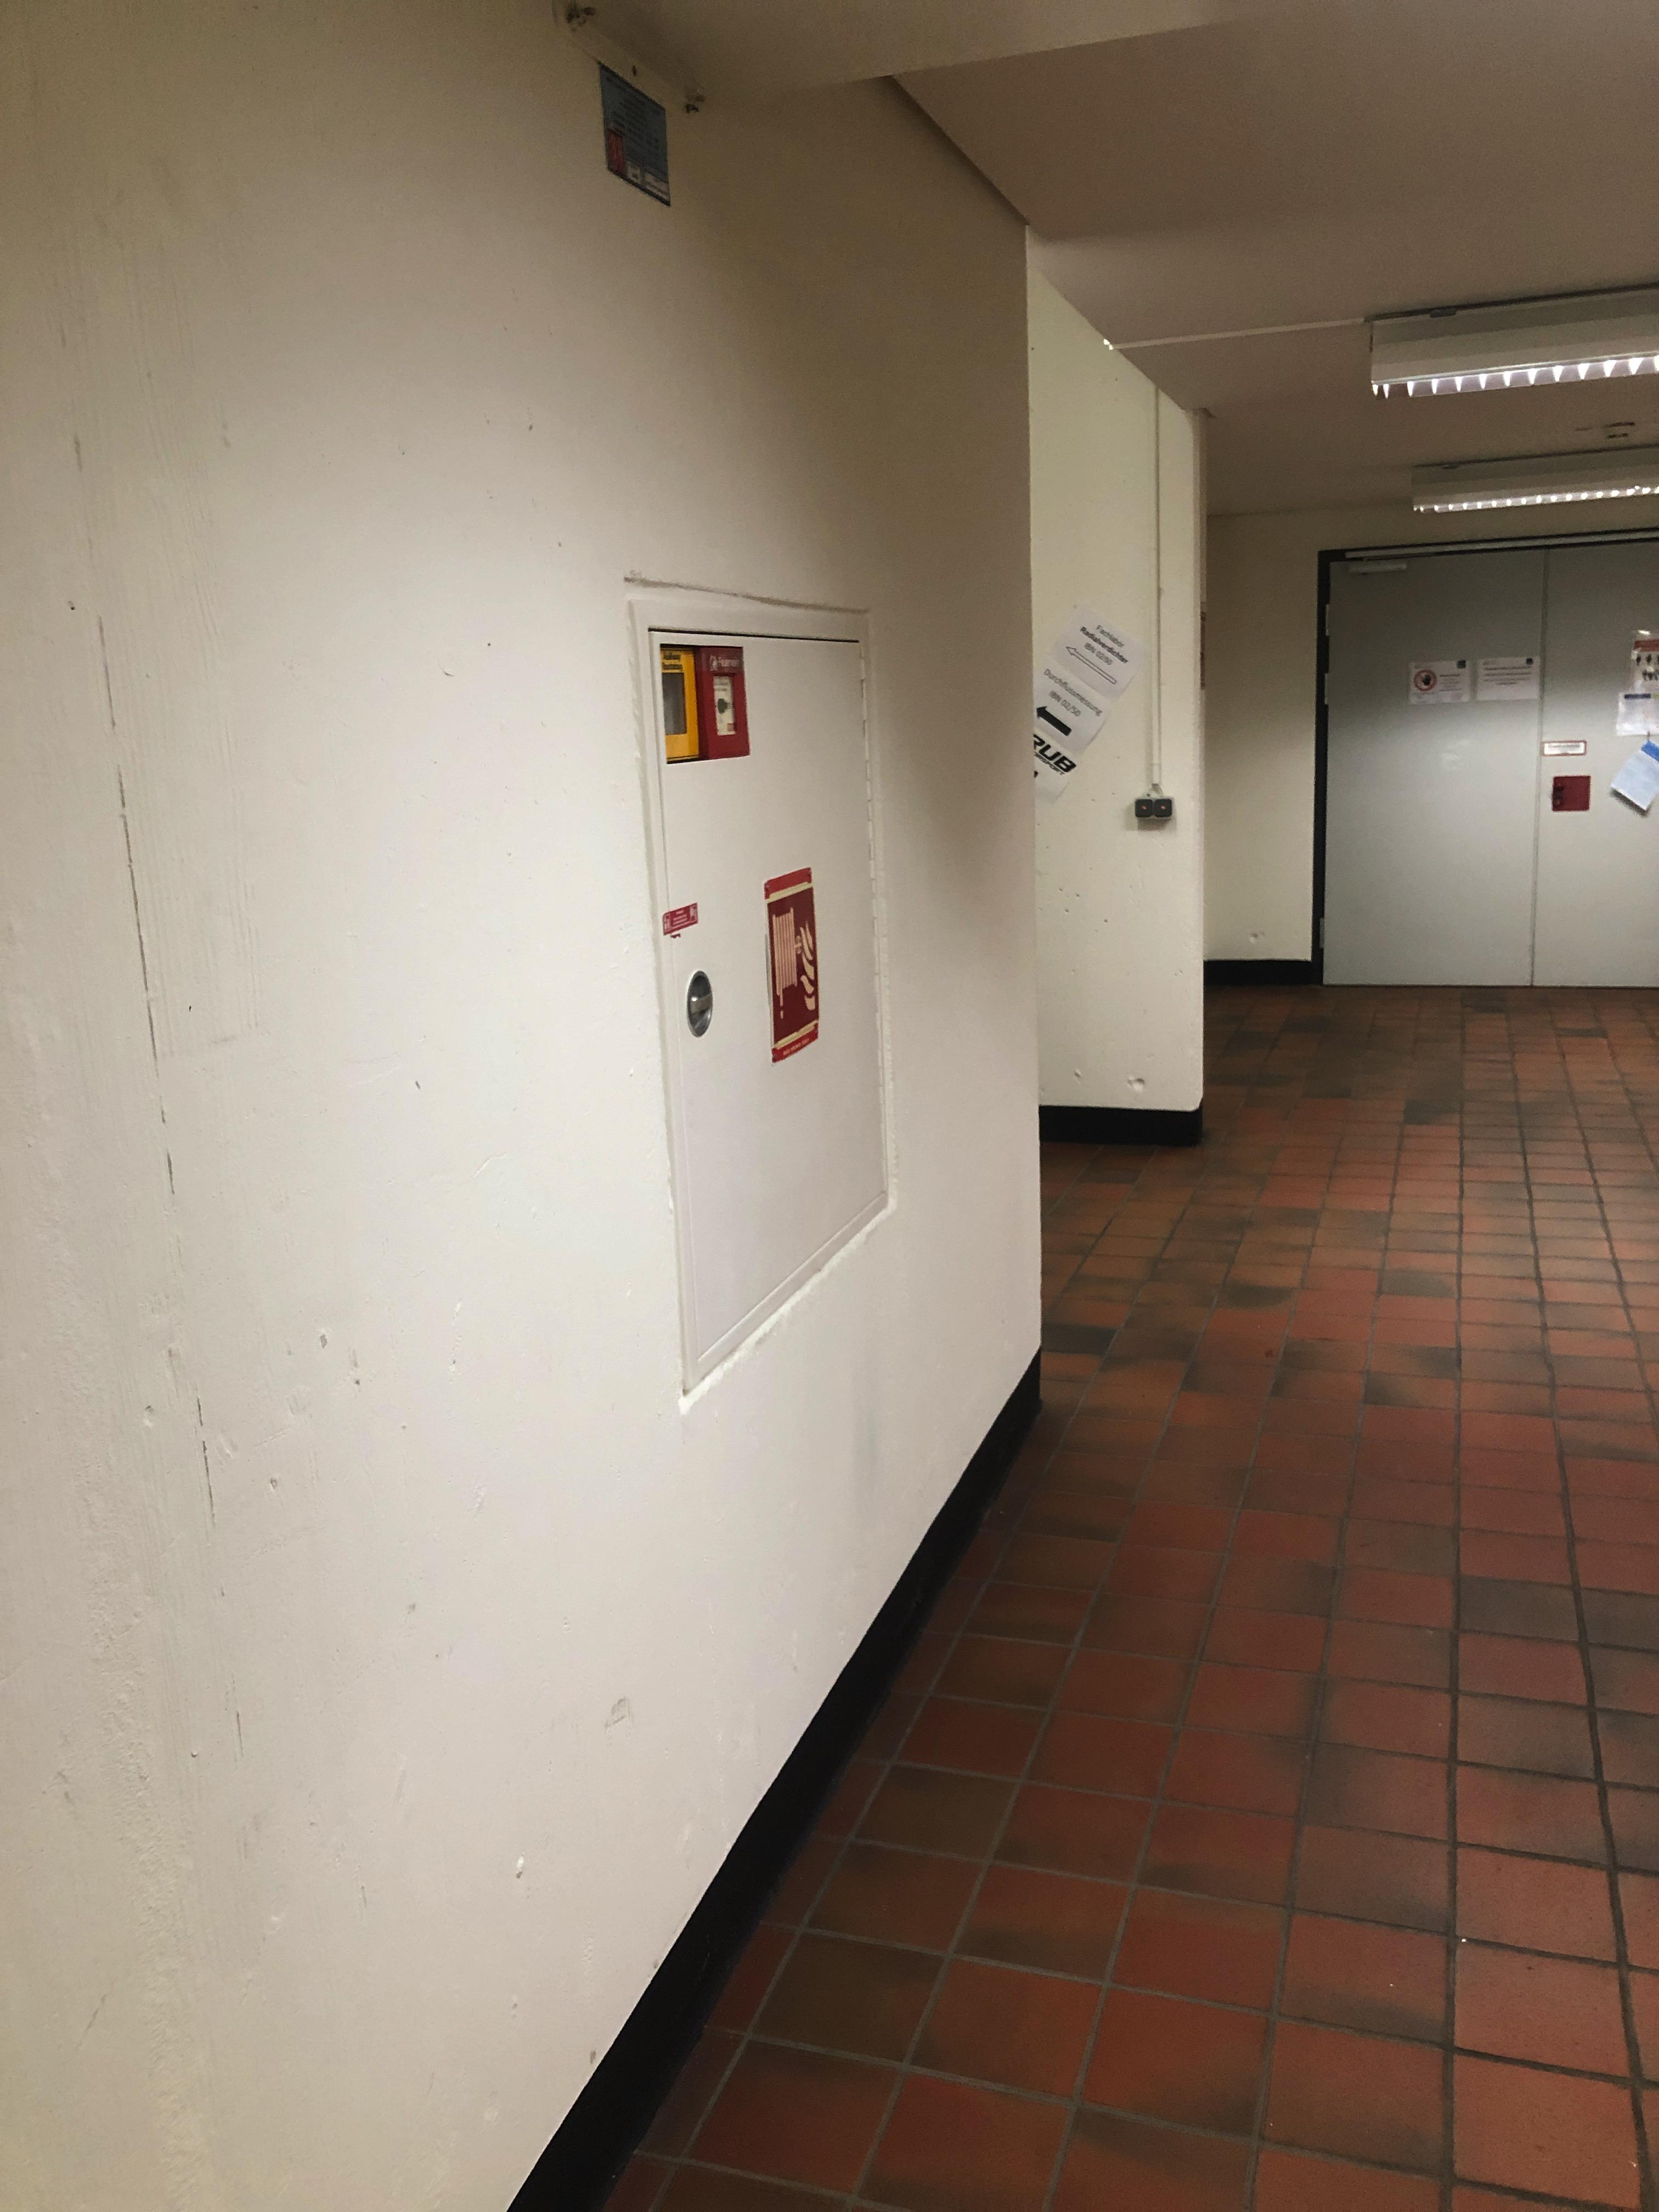call_point: (697, 647, 749, 760), (660, 647, 701, 764)
